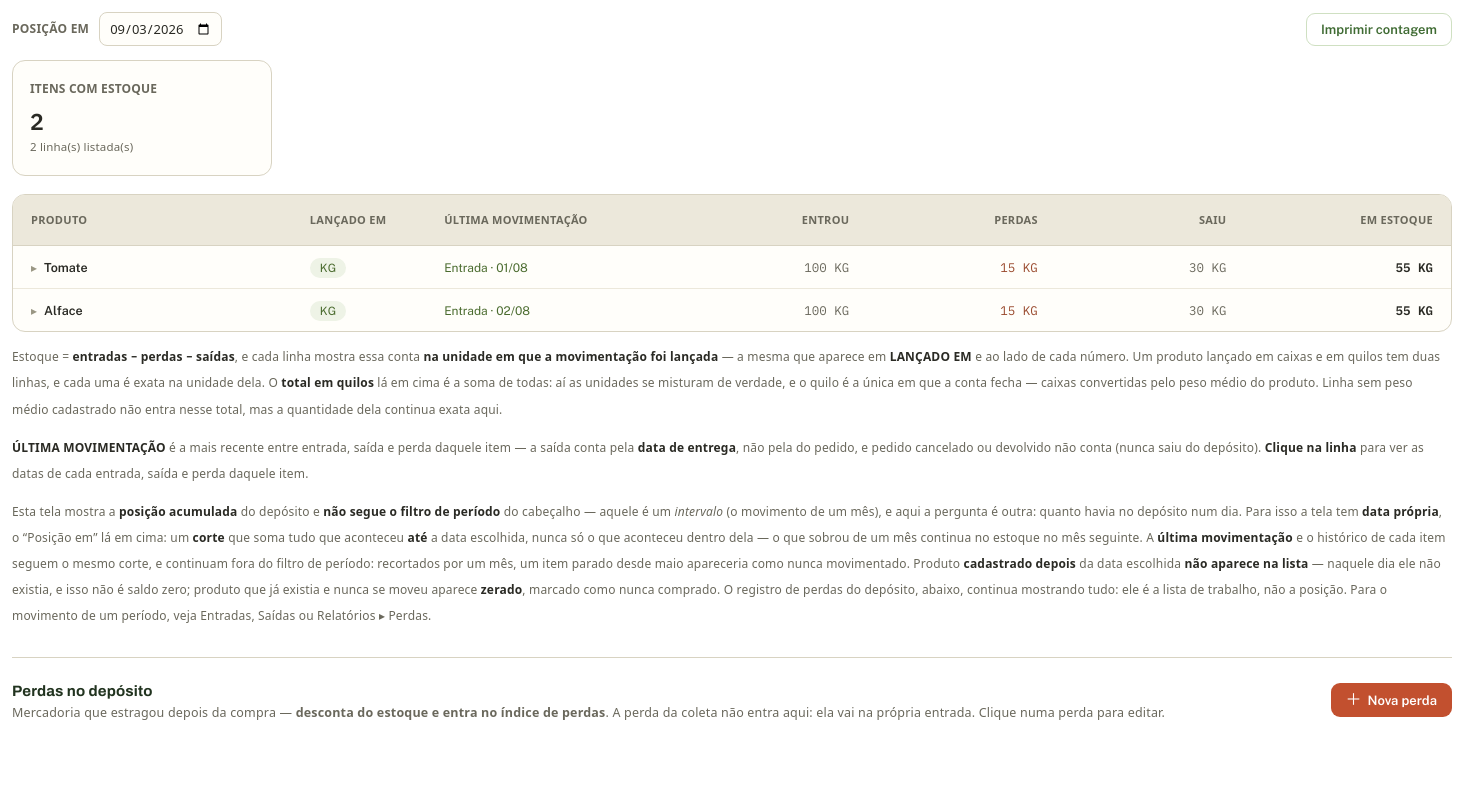
Scenario: EstoqueLista — historico por item (custo: uma busca para a tela inteira) › expandir um SEGUNDO item nao dispara outra busca — o custo e O(1), nao O(n)
The width and height of the screenshot is (1464, 786).
Click the button "▸Tomate KG Entrada · 01/08 100 KG 15 KG 30 KG 55 KG" at (66, 267), box x1=13 y1=246 x2=1451 y2=289
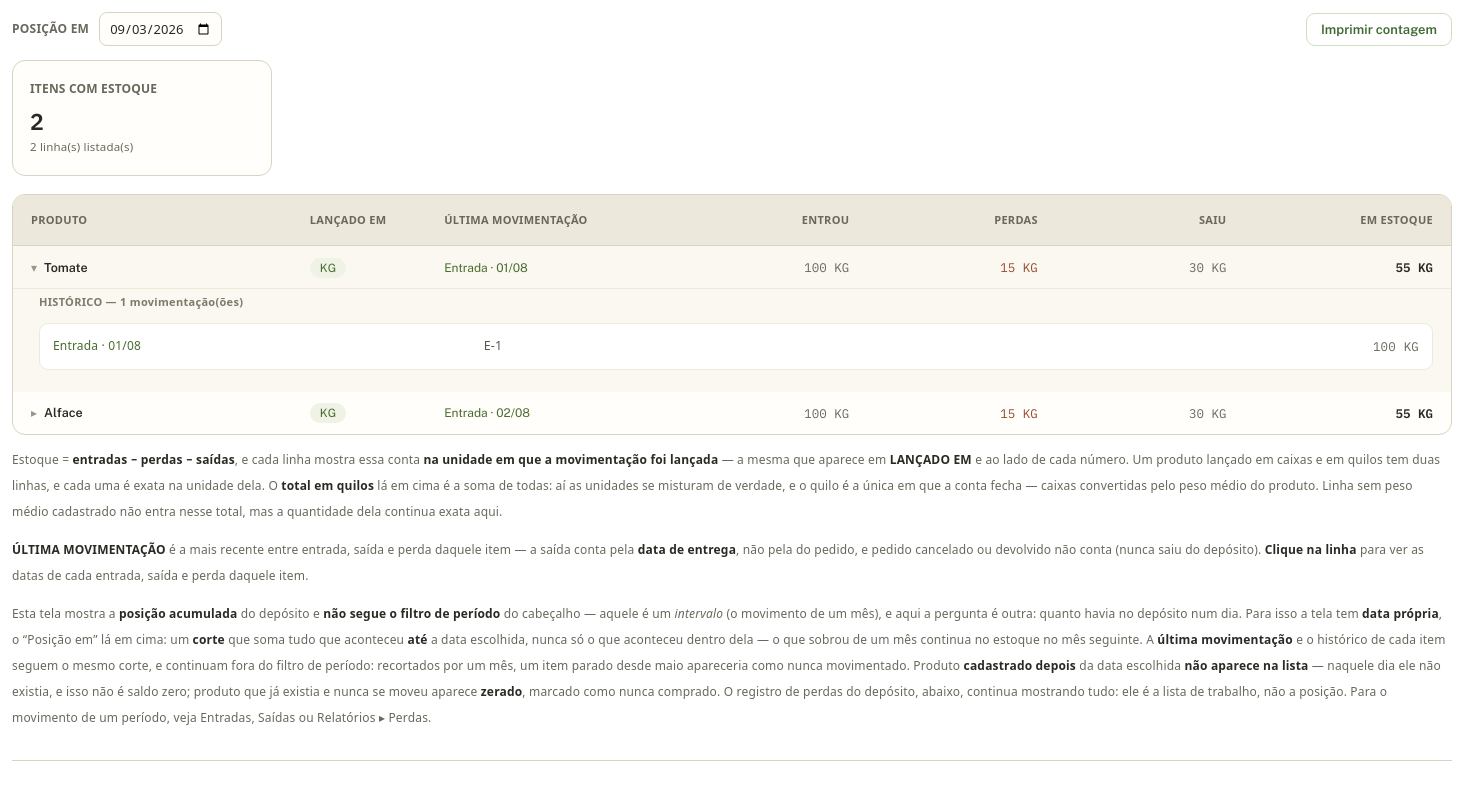
Result: the text "E-1" is shown at x1=484 y1=338 x2=502 y2=354
Click the button "▸Alface KG Entrada · 02/08 100 KG 15 KG 30 KG 55 KG" at (63, 413), box x1=13 y1=392 x2=1451 y2=434
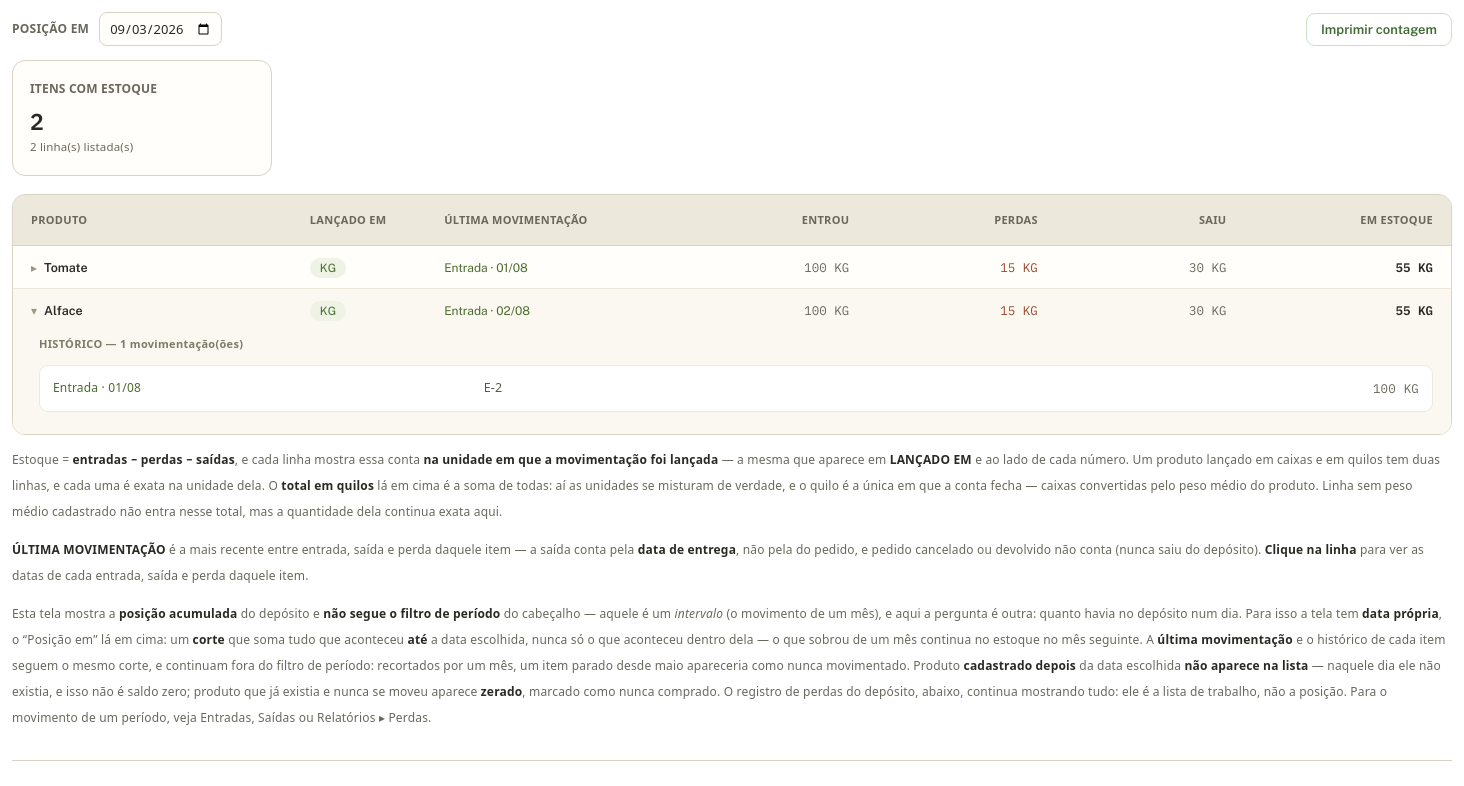
Result: the text "E-2" is shown at x1=484 y1=380 x2=502 y2=396
